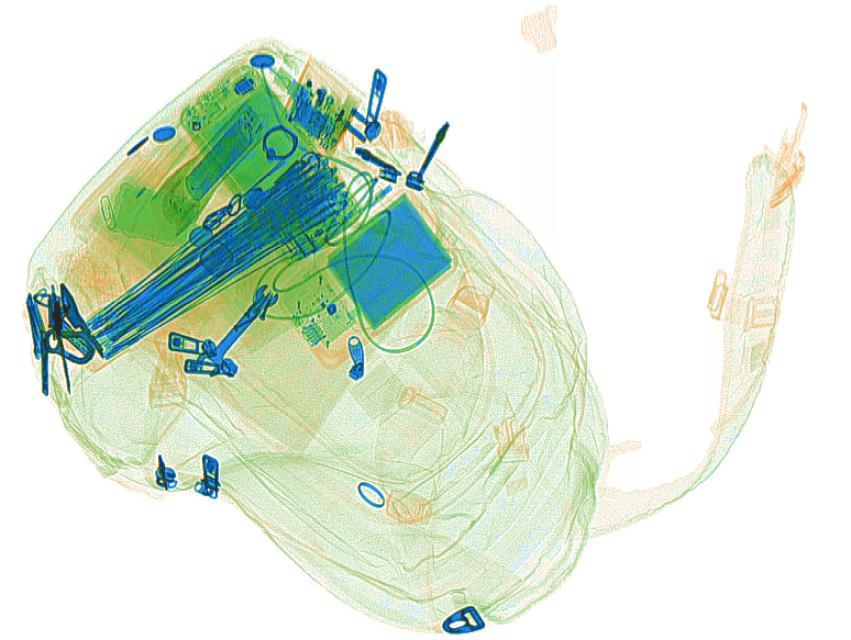battery: (184, 121, 259, 201)
